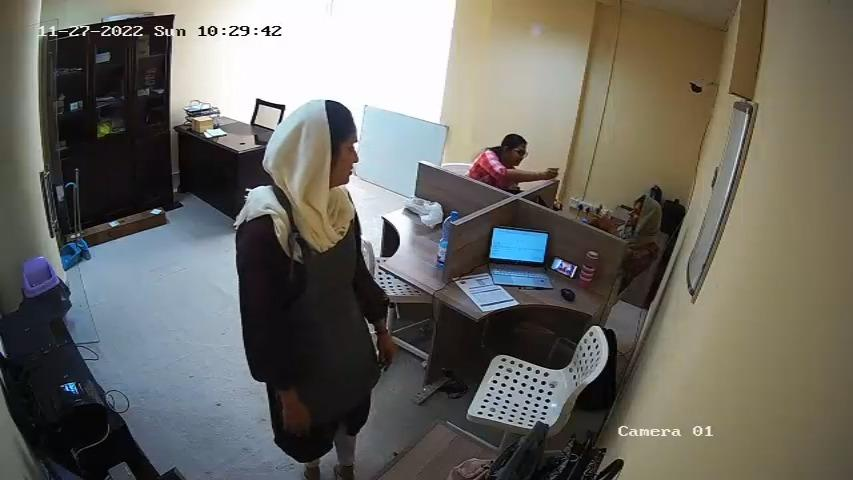apron: (276, 199, 369, 380)
